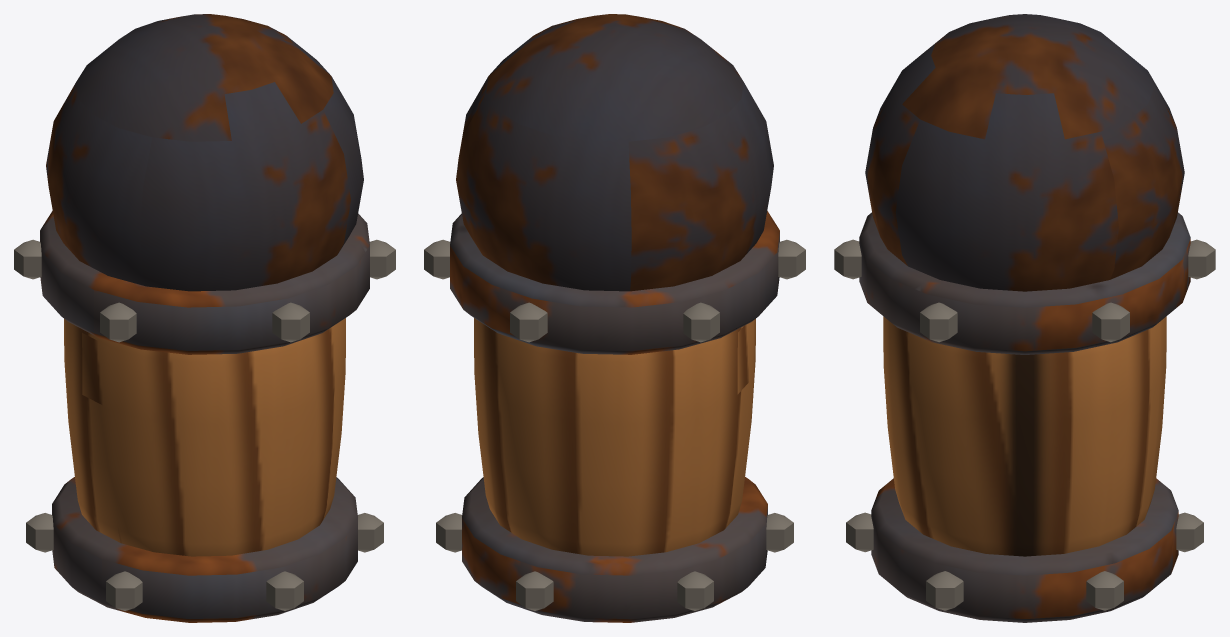
File: LowerArm_R.glb
3 views of the same model, side by side, from view 1: azimuth 30°, elevation 25°; view 2: azimuth 150°, elevation 25°; view 3: azimuth 270°, elevation 25° (orthographic).
Visible parts, largest first — view 1: LowerArm_R; view 2: LowerArm_R; view 3: LowerArm_R.
Part boxes in pixels (x1,y1,x2,y2): LowerArm_R: (14, 14, 395, 622); LowerArm_R: (424, 14, 805, 622); LowerArm_R: (834, 14, 1215, 622).
Size of the model in its own units: 0.166 by 0.2948 by 0.1911.
4 materials, 3 textured.
